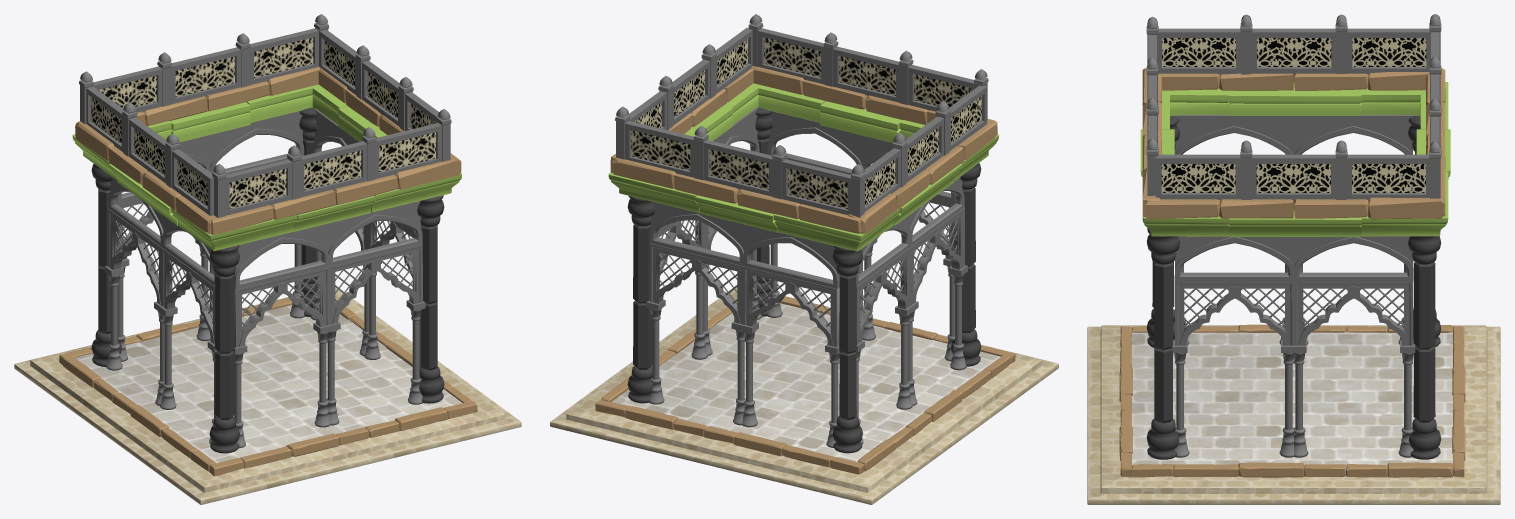
Rendered from SM_rooftop_pavilion.fbx.
3 renders of one model, left to right at view 1: azimuth 30°, elevation 25°; view 2: azimuth 150°, elevation 25°; view 3: azimuth 270°, elevation 25°, orthographic. The views are drawn at different scales.
Visible parts, largest first — view 1: Object33193; view 2: Object33193; view 3: Object33193.
Part boxes in pixels (x1,y1,x2,y2): Object33193: (14, 14, 521, 504); Object33193: (550, 14, 1058, 504); Object33193: (1087, 14, 1500, 504).
Size of the model in its own units: 310 by 284 by 312.
